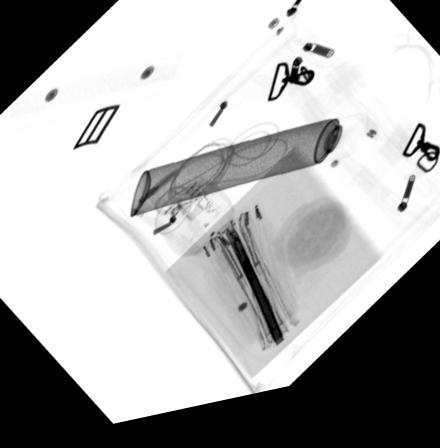Sprayer: (127, 127, 369, 225)
